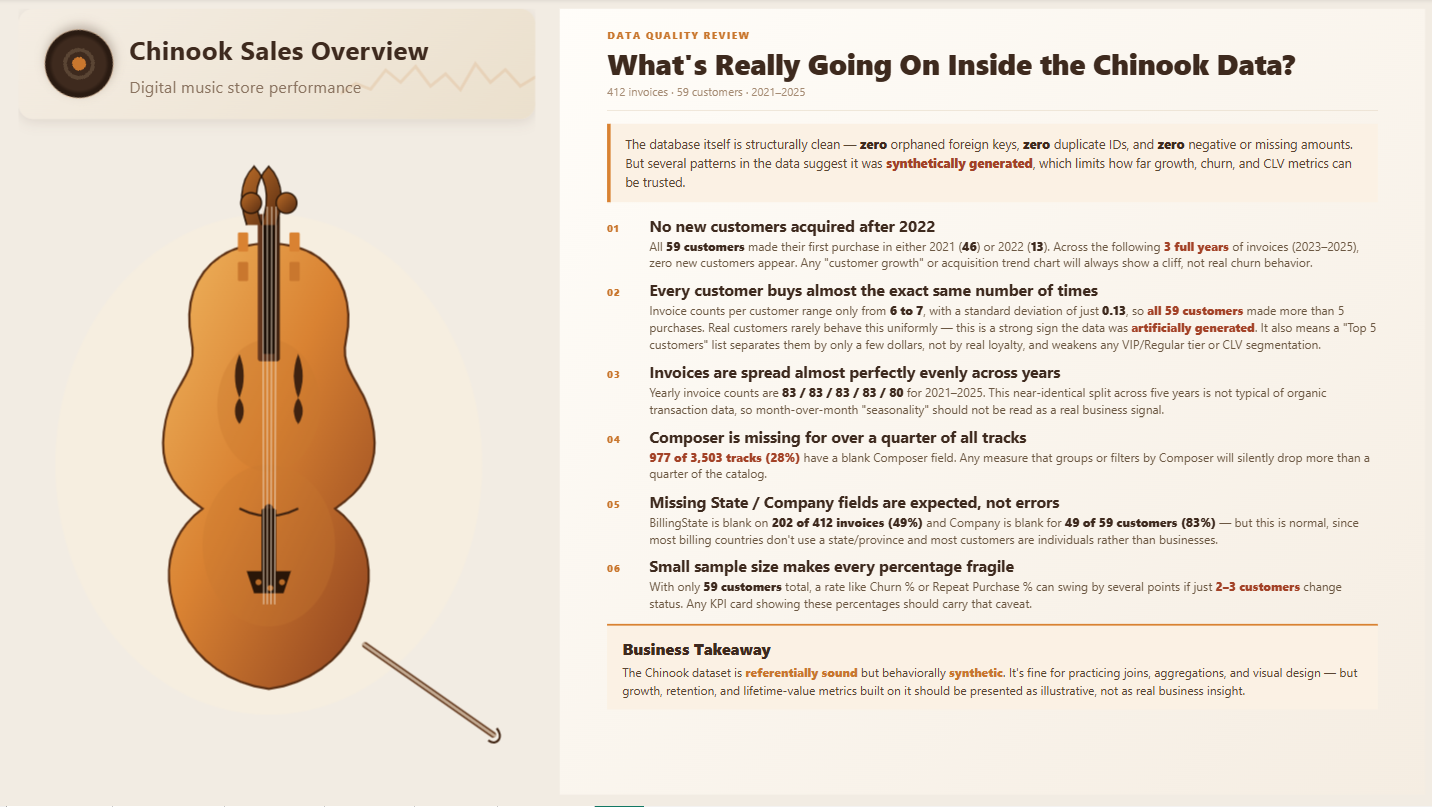

This screenshot's page, from the dashboard's own definition file:
{"tool":"powerbi","page":{"name":"Report","canvas":[1920,1080],"ordinal":5},"visuals":[{"type":"htmlContent443BE3AD55E043BF878BED274D3A6855","fields":{"content":["_measure.HeaderHTMLx"]},"box":[10.5,0,722.1,280.8],"z":0},{"type":"htmlContent443BE3AD55E043BF878BED274D3A6855","fields":{"content":["Avg_CLV__2.DataQualityReportHTML"]},"box":[732.6,0,1187.8,1079.7],"z":1000},{"type":"htmlContent443BE3AD55E043BF878BED274D3A6855","fields":{"content":["Avg_CLV__2.ViolinArtHTML"]},"box":[10.5,205.8,701.2,873.8],"z":2000}]}

Visuals, with their boxes in screenshot pixels (x1, y1, x2, y2), scaled from the page's 1920x1080 canvas onto the 1432x807 screenshot:
htmlContent443BE3AD55E043BF878BED274D3A6855 - _measure.HeaderHTMLx: <box>8,0,546,210</box>
htmlContent443BE3AD55E043BF878BED274D3A6855 - Avg_CLV__2.DataQualityReportHTML: <box>546,0,1431,806</box>
htmlContent443BE3AD55E043BF878BED274D3A6855 - Avg_CLV__2.ViolinArtHTML: <box>8,154,531,806</box>
